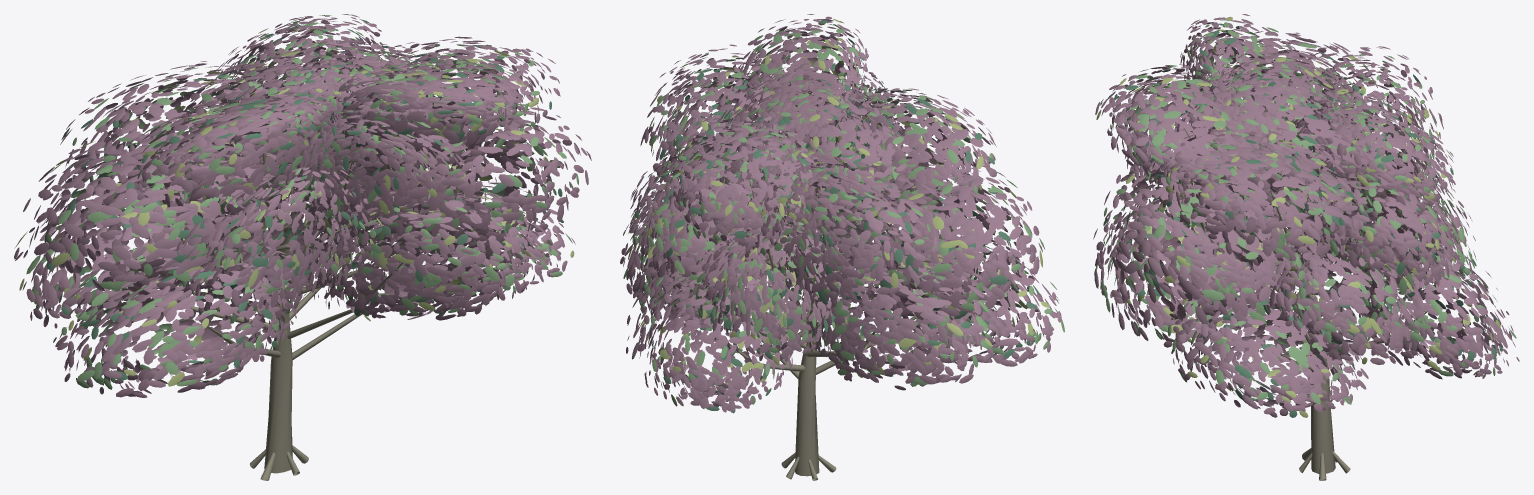
File: grove_8.glb
The picture shows the model from 3 angles, left to right: view 1: azimuth 30°, elevation 25°; view 2: azimuth 150°, elevation 25°; view 3: azimuth 270°, elevation 25°; orthographic projection. The views are drawn at different scales.
Parts seen in each view (by area): view 1: study_canopy_2_StudyLeafPurple, study_canopy_2_StudyLeafJade, study_canopy_2_StudyLeafDeep, study_canopy_2_StudyBark, study_canopy_2_StudyLeafGold; view 2: study_canopy_2_StudyLeafPurple, study_canopy_2_StudyLeafJade, study_canopy_2_StudyLeafDeep, study_canopy_2_StudyLeafGold, study_canopy_2_StudyBark; view 3: study_canopy_2_StudyLeafPurple, study_canopy_2_StudyLeafJade, study_canopy_2_StudyLeafGold, study_canopy_2_StudyLeafDeep, study_canopy_2_StudyBark.
Boxes of the visible parts, box(x1,y1,x2,y2) form: study_canopy_2_StudyLeafPurple: box(14, 14, 591, 397); study_canopy_2_StudyLeafJade: box(26, 14, 578, 389); study_canopy_2_StudyLeafDeep: box(44, 19, 563, 385); study_canopy_2_StudyBark: box(135, 120, 450, 480); study_canopy_2_StudyLeafGold: box(14, 28, 574, 386); study_canopy_2_StudyLeafPurple: box(620, 14, 1061, 412); study_canopy_2_StudyLeafJade: box(623, 24, 1064, 406); study_canopy_2_StudyLeafDeep: box(627, 20, 1053, 413); study_canopy_2_StudyLeafGold: box(628, 19, 1049, 387); study_canopy_2_StudyBark: box(710, 144, 951, 480); study_canopy_2_StudyLeafPurple: box(1093, 14, 1519, 417); study_canopy_2_StudyLeafJade: box(1095, 22, 1516, 411); study_canopy_2_StudyLeafGold: box(1096, 16, 1500, 417); study_canopy_2_StudyLeafDeep: box(1103, 19, 1502, 417); study_canopy_2_StudyBark: box(1183, 128, 1426, 480).
Size of the model in its own units: 13.28 by 11.26 by 10.34.
